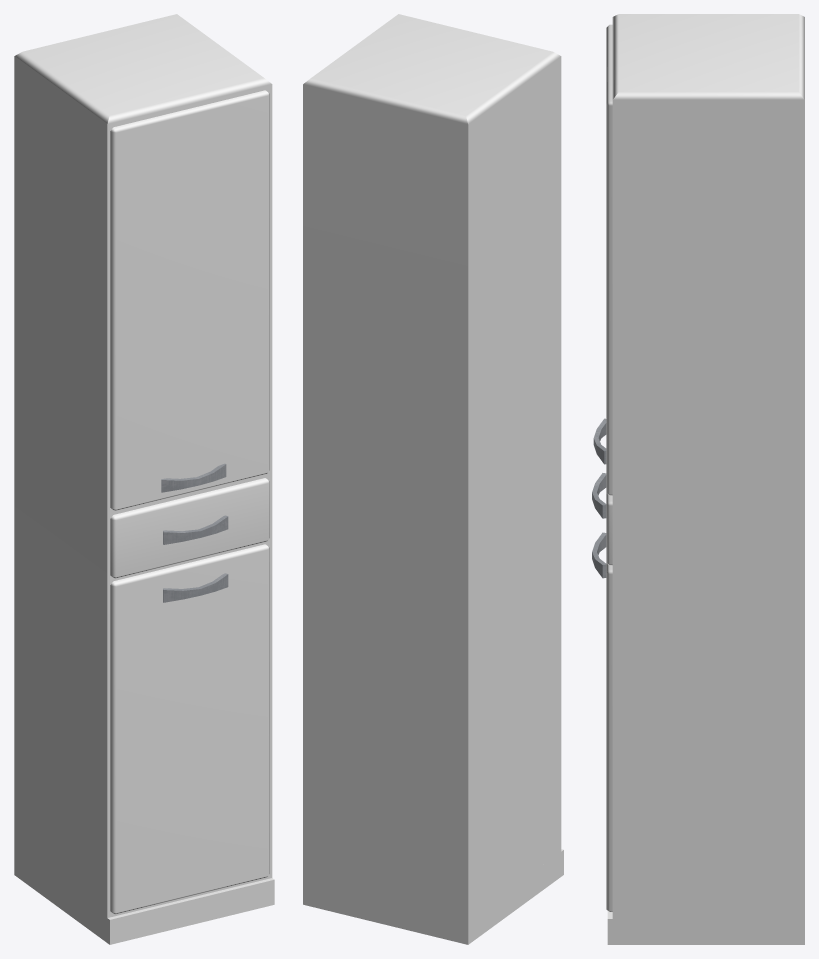
File: bathroom_002.fbx
3 renders of one model, left to right at view 1: azimuth 30°, elevation 25°; view 2: azimuth 150°, elevation 25°; view 3: azimuth 270°, elevation 25°, orthographic. The views are drawn at different scales.
Visible parts, largest first — view 1: bathroom_002; view 2: bathroom_002; view 3: bathroom_002.
Boxes of the visible parts, <box> form: bathroom_002: <box>14,14,274,944</box>; bathroom_002: <box>303,14,563,944</box>; bathroom_002: <box>592,14,804,944</box>.
Size of the model in its own units: 50.5 by 54.74 by 241.
